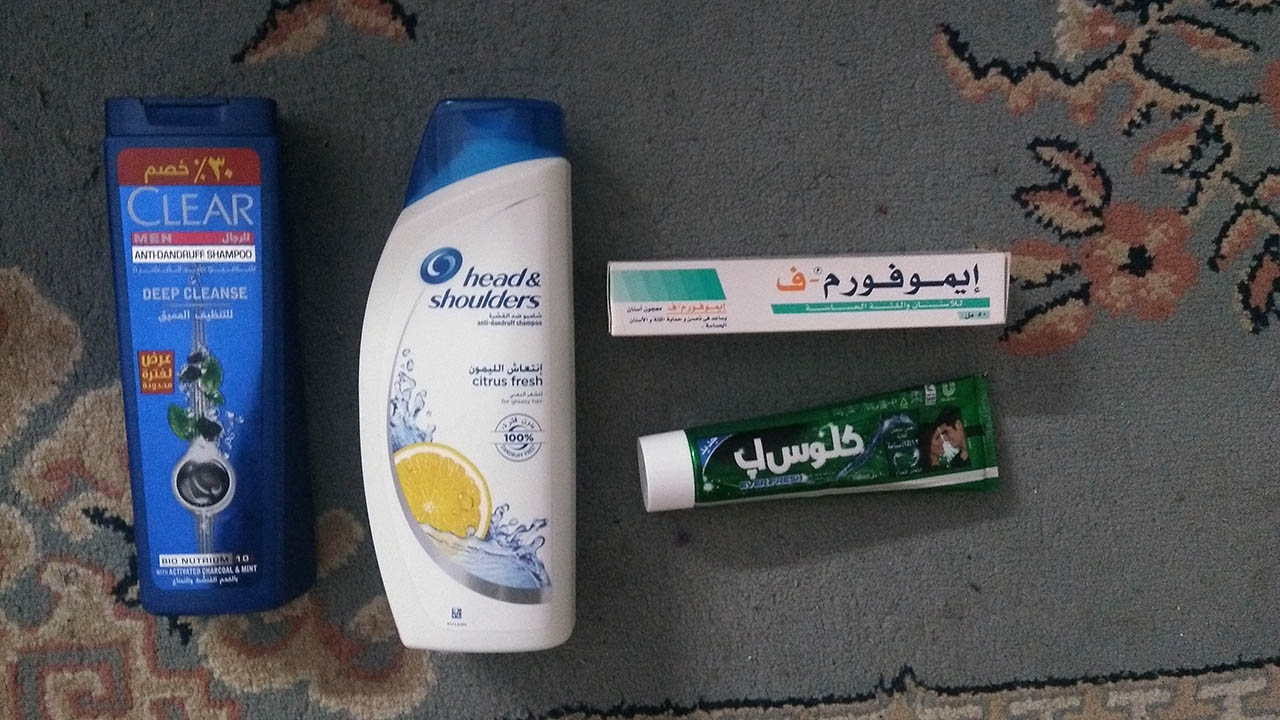Shampoo-Clear 4.7$: (94, 83, 319, 619)
Toothpaste-Closeup 3.04$: (626, 384, 1012, 514)
Toothpaste-F 1.5$: (604, 251, 1021, 338)
shampoo-Lemon 3.5$: (359, 95, 568, 662)
